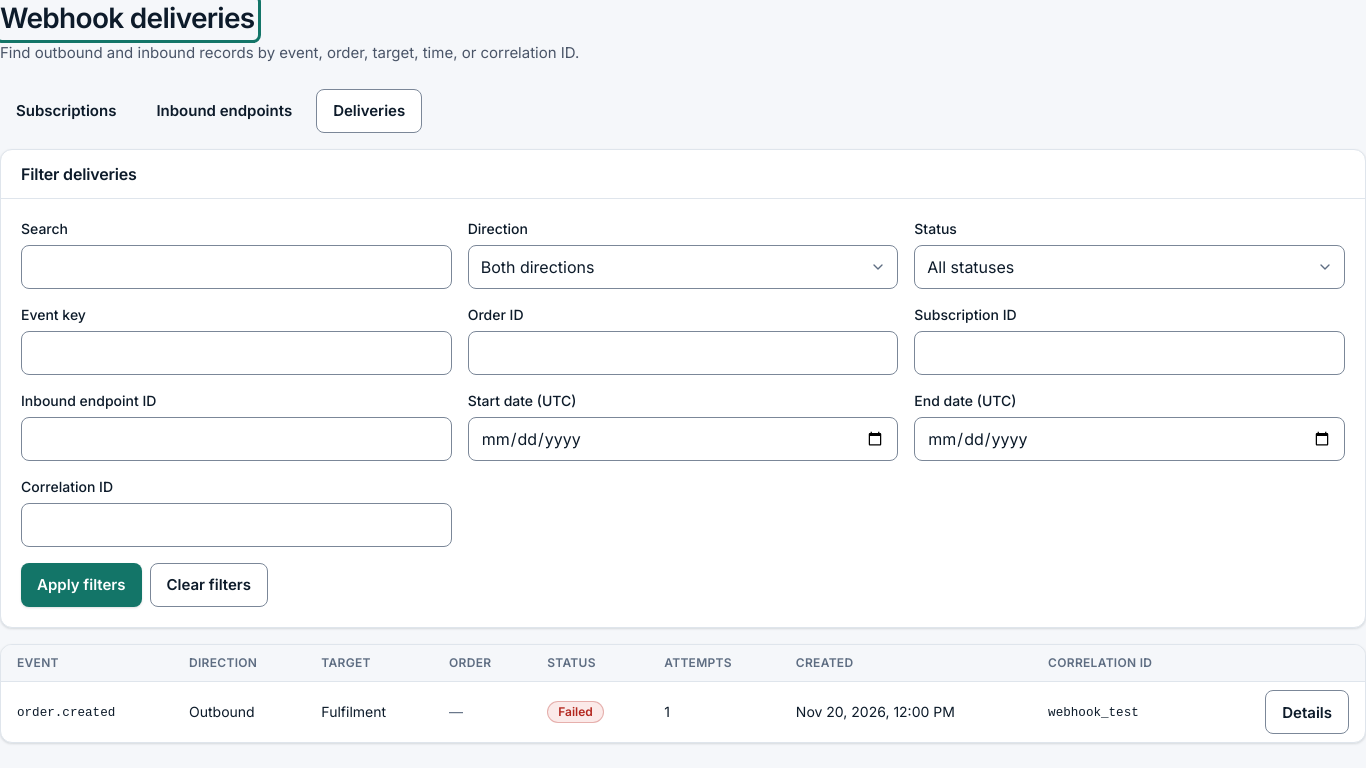
Test case: Webhooks administration › refuses to offer rerun when an inbound payload has been purged
The width and height of the screenshot is (1366, 768).
Click the button "Details" at x=1307, y=712, box [1265,690,1349,734]
(page scrolled)
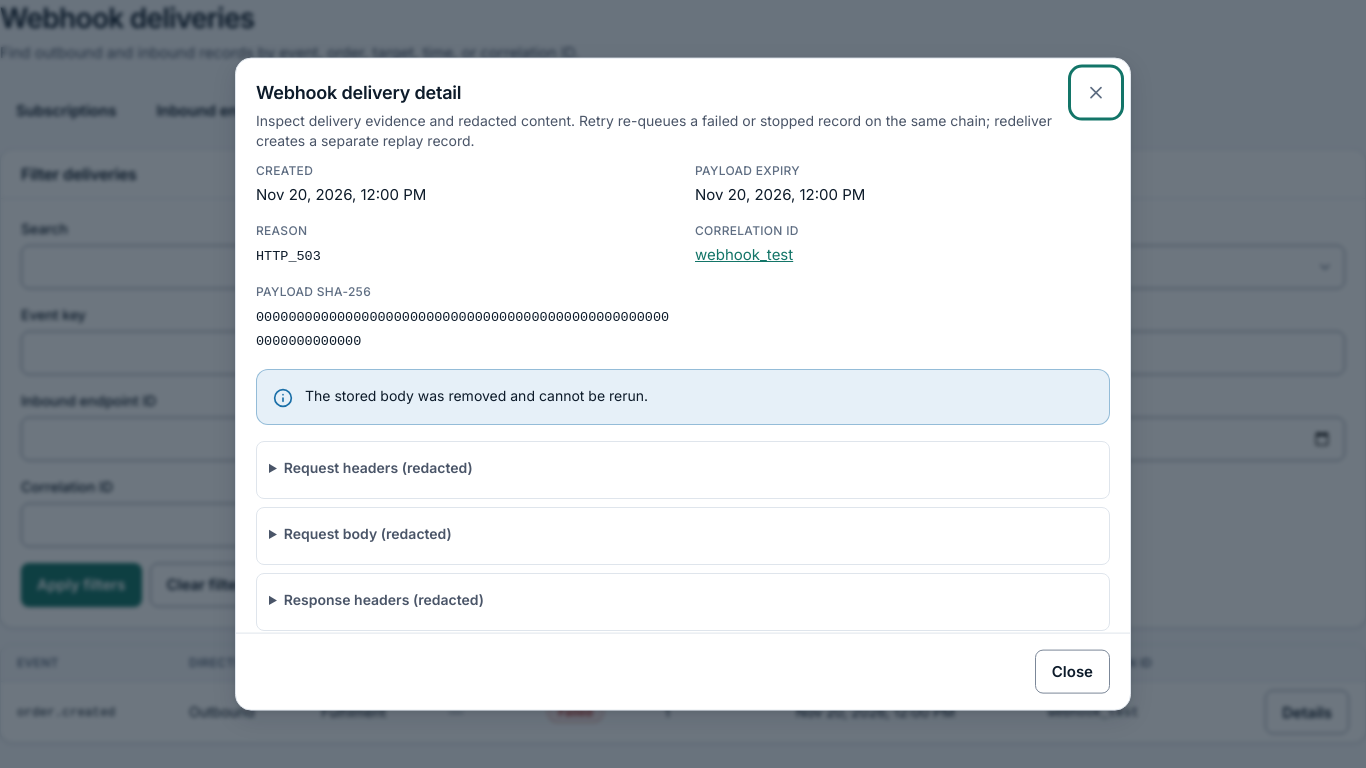
Result: the text "The stored body was removed and cannot be rerun." is shown at [305,386,648,403]
